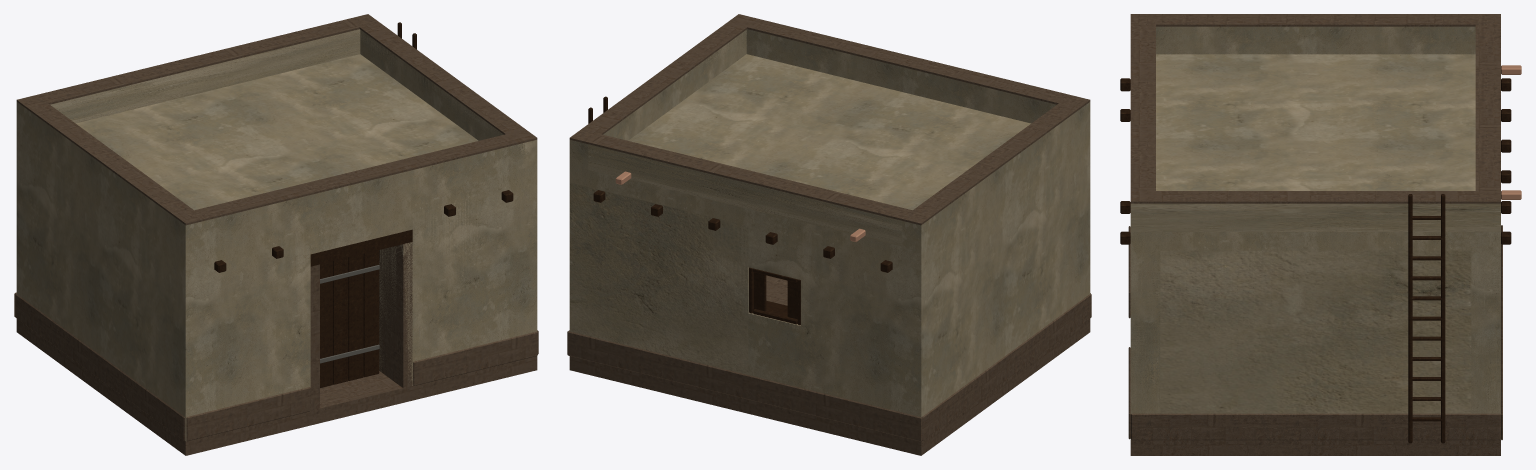
The model's file is d_home_6x5.glb.
3 renders of one model, left to right at view 1: azimuth 30°, elevation 25°; view 2: azimuth 150°, elevation 25°; view 3: azimuth 270°, elevation 25°, orthographic. The views are drawn at different scales.
Visible parts, largest first — view 1: front adobe pier, model floor, end parapet-colonly.001, front adobe pier-colonly.001, side parapet-colonly.001, structural timber lintel, Door entry plank.004, Door entry plank.003, entry reveal-colonly.001, Door entry plank.002, Door entry plank.001; view 2: front adobe pier, model floor, rear adobe pier-colonly.001, end parapet-colonly.001, structural timber lintel; view 3: front adobe pier, side adobe wall-colonly.001, model floor, side parapet-colonly.001, structural timber lintel, front adobe pier-colonly.001, rear adobe pier-colonly.001, roof spout.
Part boxes in pixels (left/top/right/bottom): front adobe pier: left=16, top=30, right=537, bottom=440; model floor: left=14, top=14, right=538, bottom=455; end parapet-colonly.001: left=50, top=29, right=360, bottom=123; front adobe pier-colonly.001: left=412, top=183, right=537, bottom=382; side parapet-colonly.001: left=360, top=30, right=537, bottom=169; structural timber lintel: left=214, top=22, right=513, bottom=272; Door entry plank.004: left=363, top=250, right=379, bottom=377; Door entry plank.003: left=348, top=254, right=363, bottom=380; entry reveal-colonly.001: left=379, top=242, right=412, bottom=385; Door entry plank.002: left=333, top=257, right=348, bottom=384; Door entry plank.001: left=320, top=261, right=332, bottom=387; front adobe pier: left=569, top=29, right=1090, bottom=417; model floor: left=567, top=14, right=1091, bottom=455; rear adobe pier-colonly.001: left=569, top=182, right=748, bottom=374; end parapet-colonly.001: left=588, top=144, right=902, bottom=246; structural timber lintel: left=588, top=96, right=892, bottom=325; front adobe pier: left=1130, top=26, right=1500, bottom=439; side adobe wall-colonly.001: left=1160, top=250, right=1471, bottom=413; model floor: left=1128, top=14, right=1502, bottom=455; side parapet-colonly.001: left=1130, top=203, right=1500, bottom=231; structural timber lintel: left=1120, top=78, right=1511, bottom=443; front adobe pier-colonly.001: left=1130, top=250, right=1160, bottom=413; rear adobe pier-colonly.001: left=1471, top=250, right=1500, bottom=439; roof spout: left=1501, top=65, right=1521, bottom=199.
Size of what is drawn, in the model's own units: 6.15 by 3.94 by 5.42.
7 materials, 4 textured.
